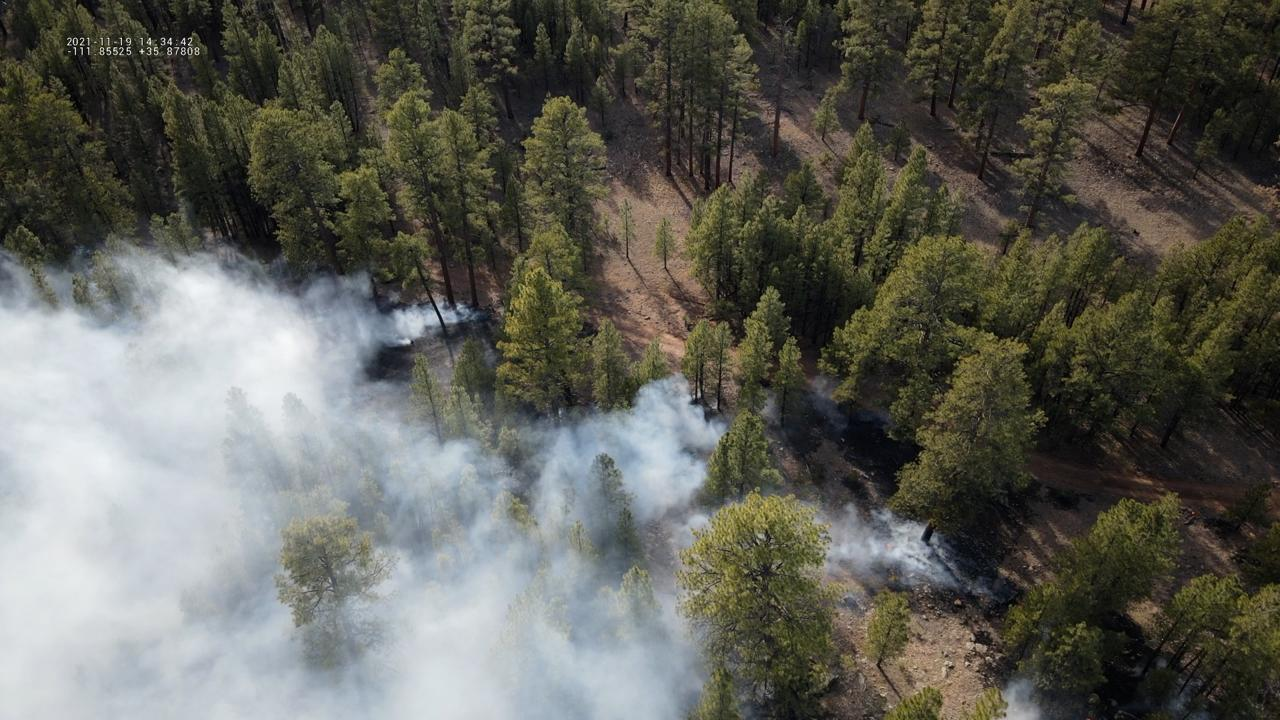smoke: (0, 236, 732, 720), (779, 504, 967, 579), (811, 371, 850, 429), (995, 676, 1046, 720), (756, 388, 783, 425)
